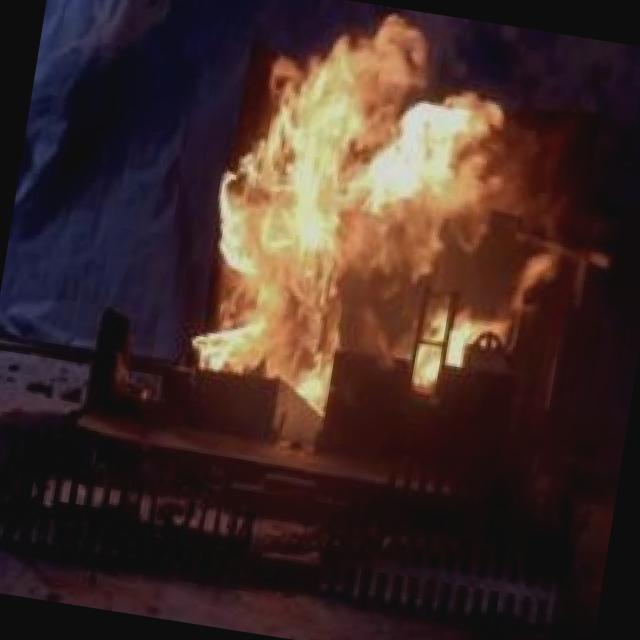fire: (143, 0, 620, 485)
